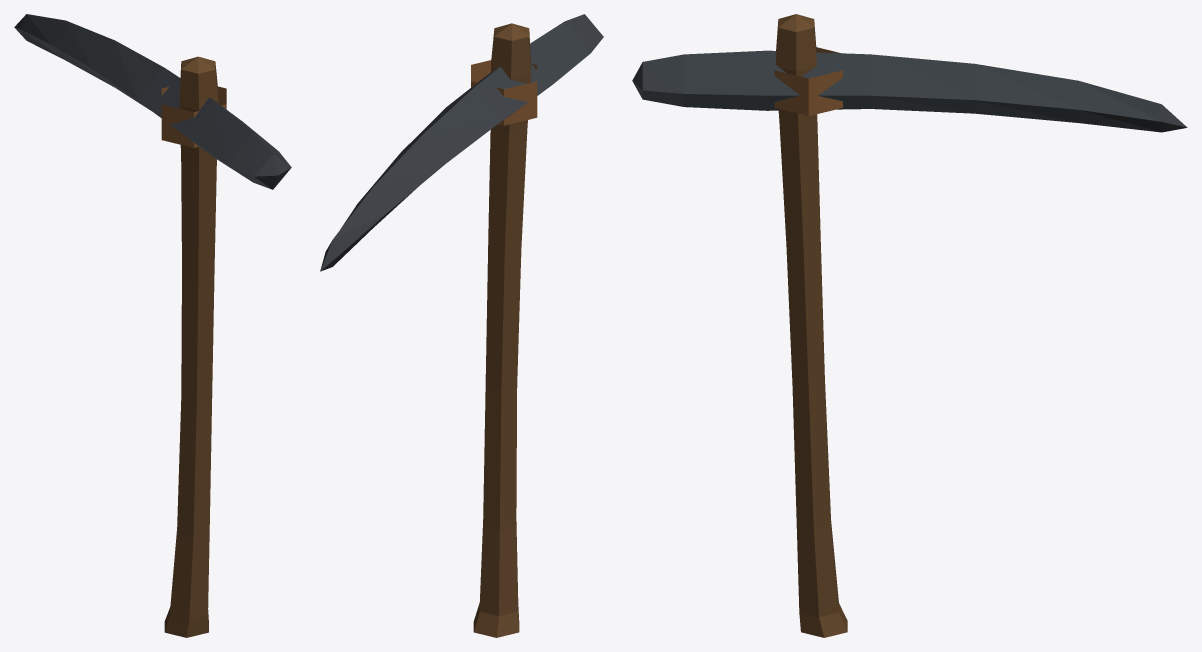
Rendered from tool_pickaxe.obj.
3 renders of one model, left to right at view 1: azimuth 30°, elevation 25°; view 2: azimuth 150°, elevation 25°; view 3: azimuth 270°, elevation 25°, orthographic. The views are drawn at different scales.
Visible parts, largest first — view 1: pickaxe; view 2: pickaxe; view 3: pickaxe.
Boxes of the visible parts, bbox=[...] form: pickaxe: bbox=[14, 14, 291, 637]; pickaxe: bbox=[320, 14, 603, 637]; pickaxe: bbox=[632, 14, 1187, 637].
Size of the model in its own units: 0.076 by 0.66 by 0.535.
